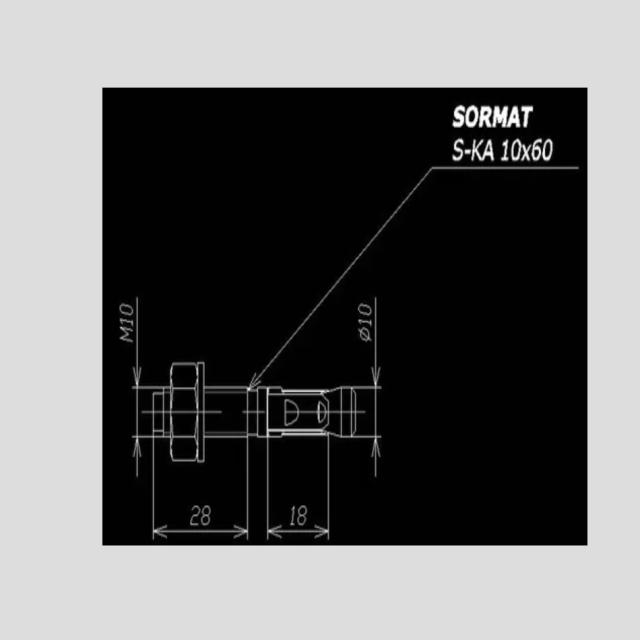marking_line: (152, 463, 250, 540), (267, 438, 330, 543), (205, 438, 249, 539), (356, 298, 380, 478), (131, 296, 153, 476), (132, 295, 163, 391), (356, 297, 380, 390), (150, 438, 169, 541), (356, 434, 381, 476), (133, 434, 152, 478), (250, 371, 261, 388)
numeric: (531, 137, 544, 161), (542, 137, 554, 160), (189, 505, 201, 527), (500, 138, 510, 162), (298, 503, 308, 526), (511, 139, 521, 162), (201, 505, 211, 527), (118, 303, 133, 317), (357, 303, 372, 317), (290, 504, 296, 528), (358, 318, 373, 327), (119, 318, 134, 326)
special_symbol: (521, 142, 533, 163), (357, 327, 371, 342)
